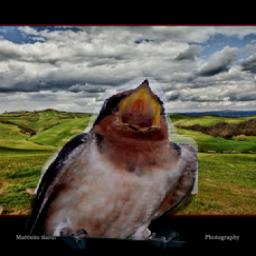Swallow: (26, 77, 199, 250)
